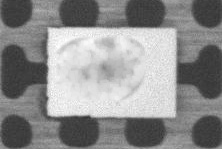DIE_INK: (77, 22, 221, 69)
